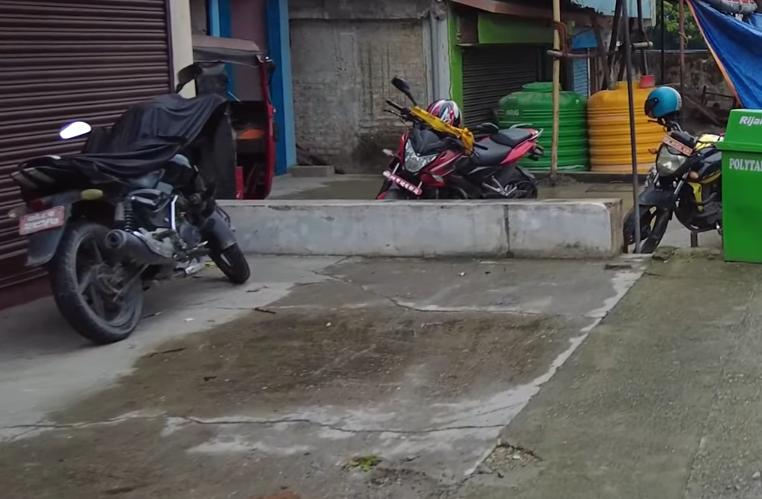bike: (12, 61, 263, 361), (366, 74, 551, 234), (622, 104, 728, 264)
